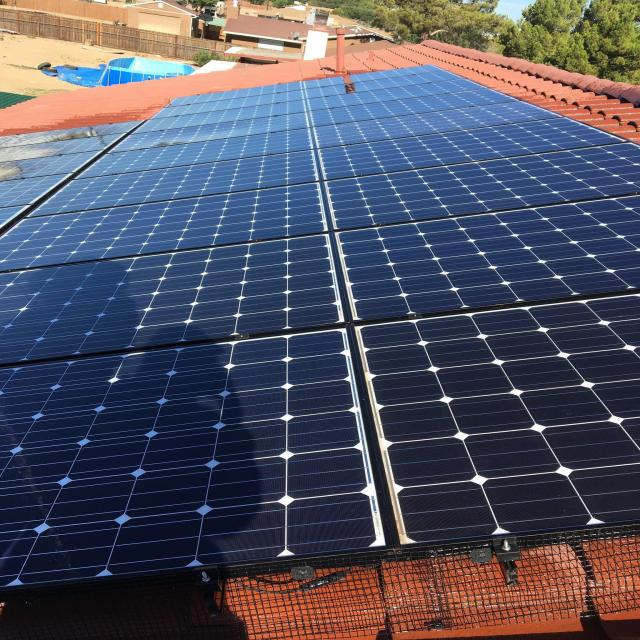clean-solar-panel: (2, 66, 638, 585)
